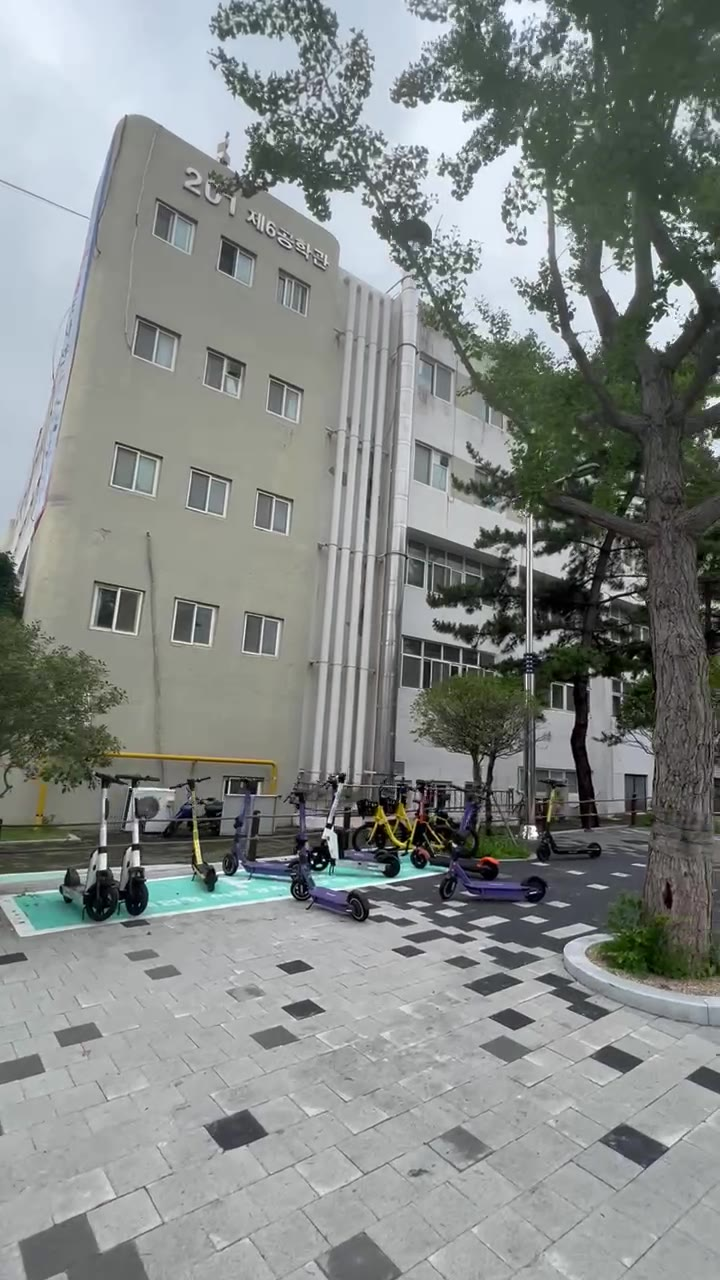low: (38, 128, 402, 686)
